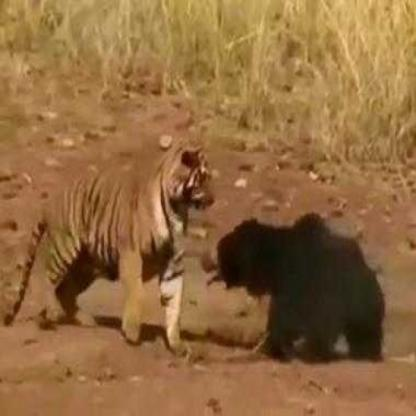Tiger: (0, 129, 224, 361)
